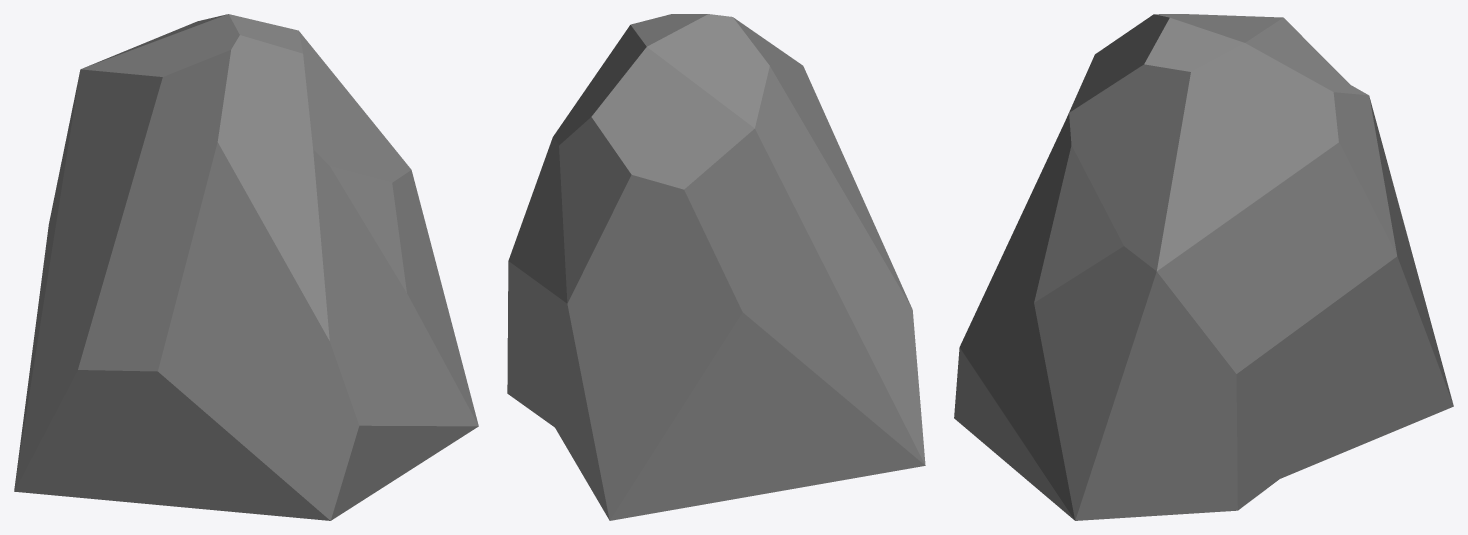
The model's file is stone01.fbx.
The picture shows the model from 3 angles, left to right: view 1: azimuth 30°, elevation 25°; view 2: azimuth 150°, elevation 25°; view 3: azimuth 270°, elevation 25°; orthographic projection. The views are drawn at different scales.
Visible parts, largest first — view 1: stone01_LOD0; view 2: stone01_LOD0; view 3: stone01_LOD0.
Part boxes in pixels (box(x1,y1,x2,y2)): stone01_LOD0: box(14, 14, 478, 520); stone01_LOD0: box(507, 14, 925, 520); stone01_LOD0: box(954, 14, 1453, 520).
Size of what is drawn, in the model's own units: 93.97 by 91.44 by 96.79.
